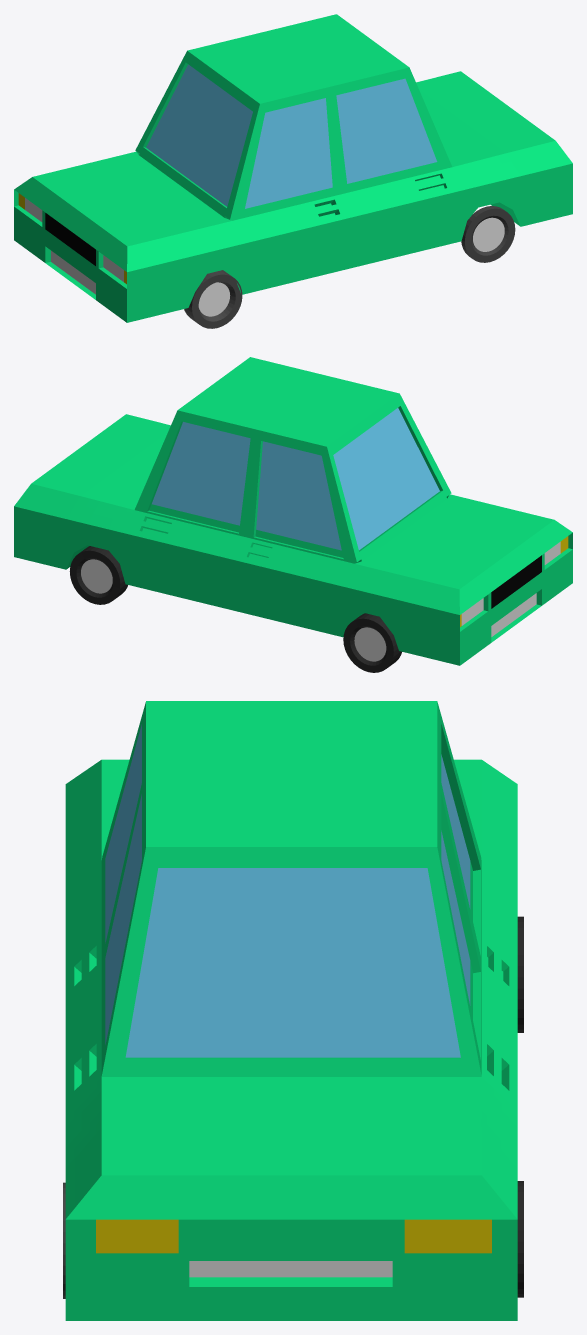
Rendered from GreenCar.glb.
The picture shows the model from 3 angles, top to bottom: view 1: azimuth 30°, elevation 25°; view 2: azimuth 150°, elevation 25°; view 3: azimuth 270°, elevation 25°; orthographic projection. The views are drawn at different scales.
Parts seen in each view (by area): view 1: Cube, Cylinder.002, Cylinder.004; view 2: Cube, Cylinder.001, Cylinder.000; view 3: Cube, Cylinder.000, Cylinder.001.
Boxes of the visible parts, left/top/right/bottom form: Cube: left=14, top=14, right=572, bottom=322; Cylinder.002: left=461, top=206, right=515, bottom=262; Cylinder.004: left=184, top=270, right=242, bottom=328; Cube: left=14, top=357, right=572, bottom=665; Cylinder.001: left=343, top=613, right=401, bottom=672; Cylinder.000: left=69, top=546, right=127, bottom=604; Cube: left=65, top=701, right=517, bottom=1320; Cylinder.000: left=517, top=1181, right=523, bottom=1297; Cylinder.001: left=517, top=916, right=523, bottom=1032.
Bounding box in the file's own units: 4.56 × 1.9 × 2.04.
